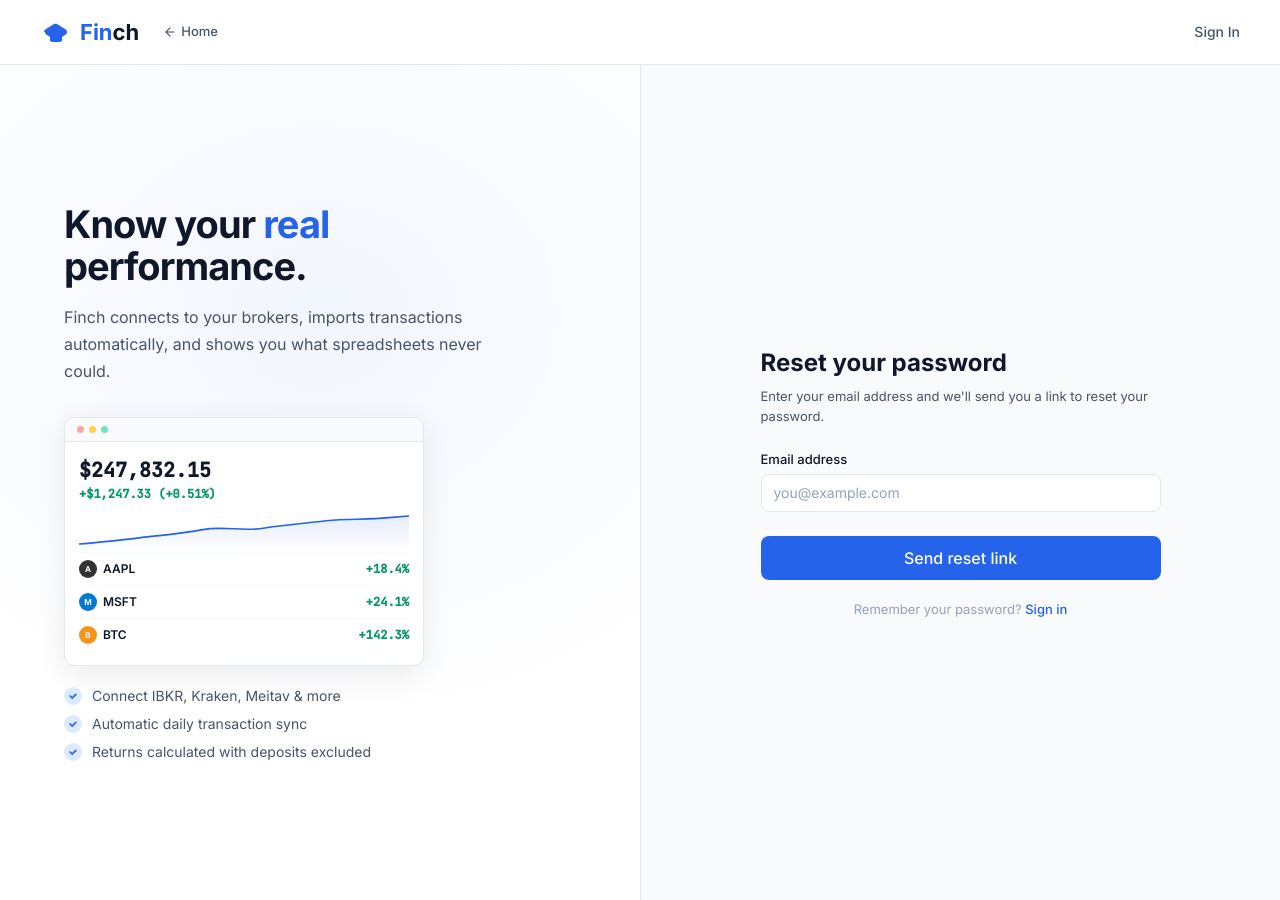
Scenario: ForgotPassword › shows submitted state after success
Type "test@example.com" into the field labelled "Email address".
click(960, 492); type("test@example.com")  # box [760,474,1160,512]
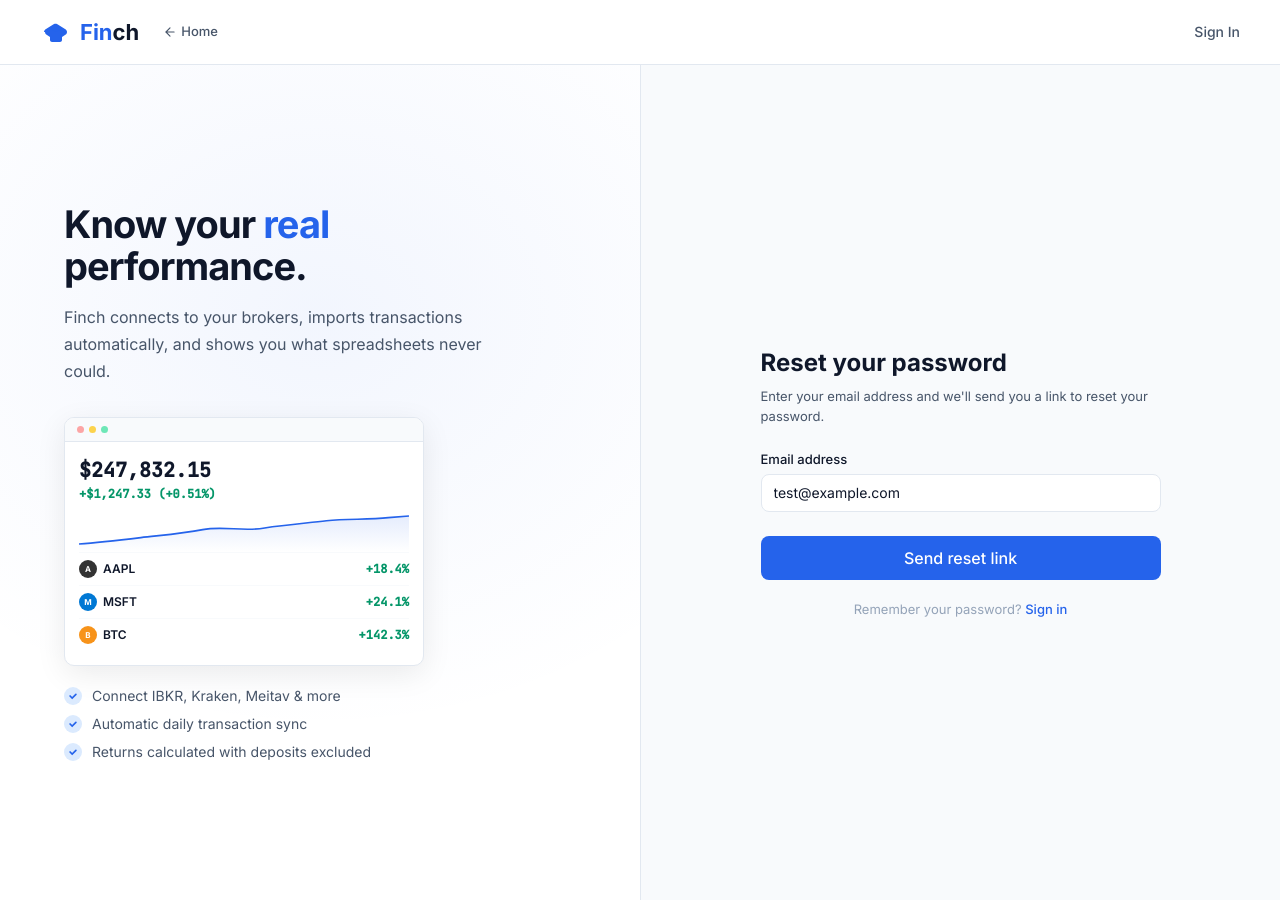
Click the button "Send reset link".
click(960, 558)  # box [760,536,1160,580]
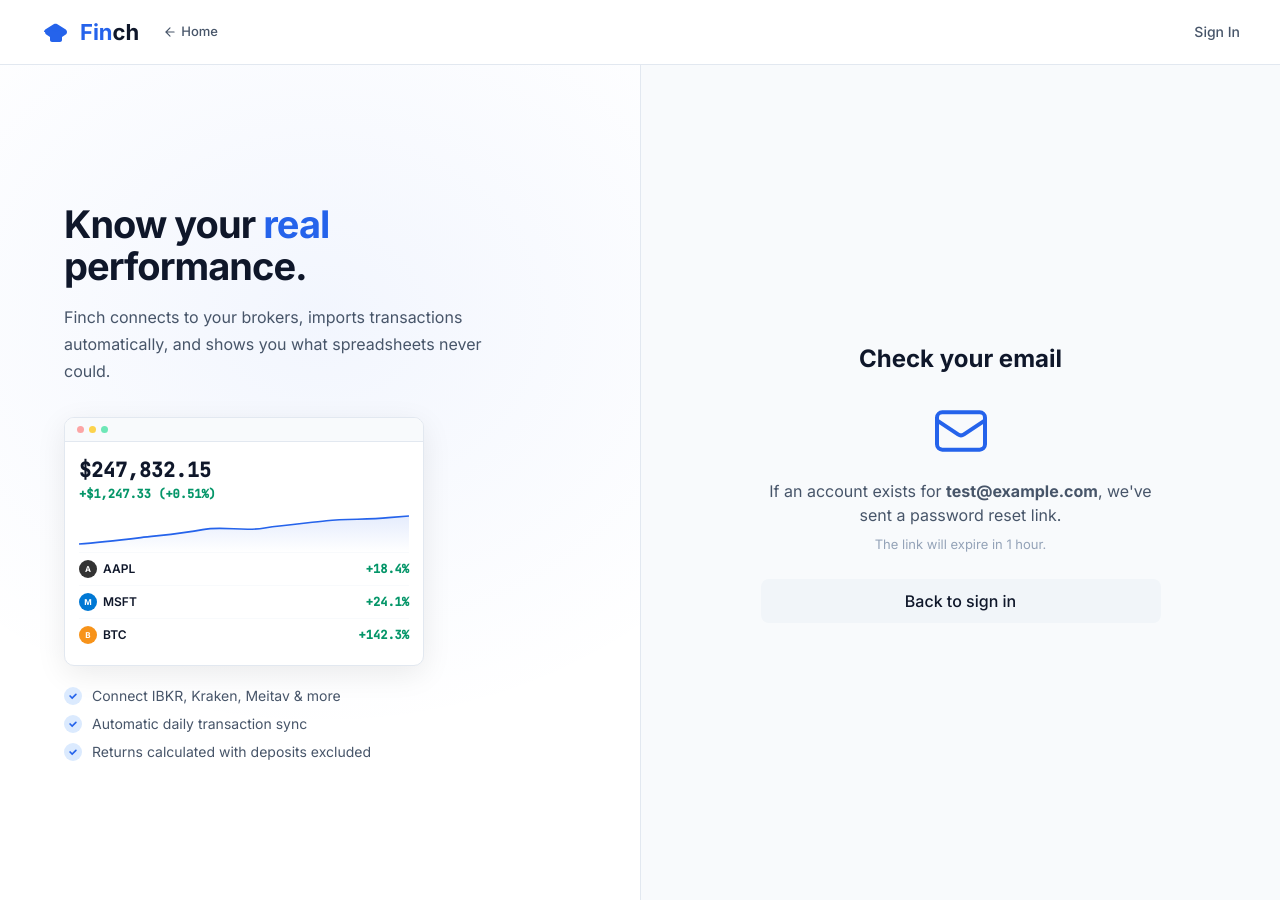
Expected: the heading "Check your email" is shown, [859,344,1062,373]
Expected: the text "test@example.com" is shown, [946,481,1098,501]
Expected: the text "The link will expire in 1 hour." is shown, [875,536,1046,552]
